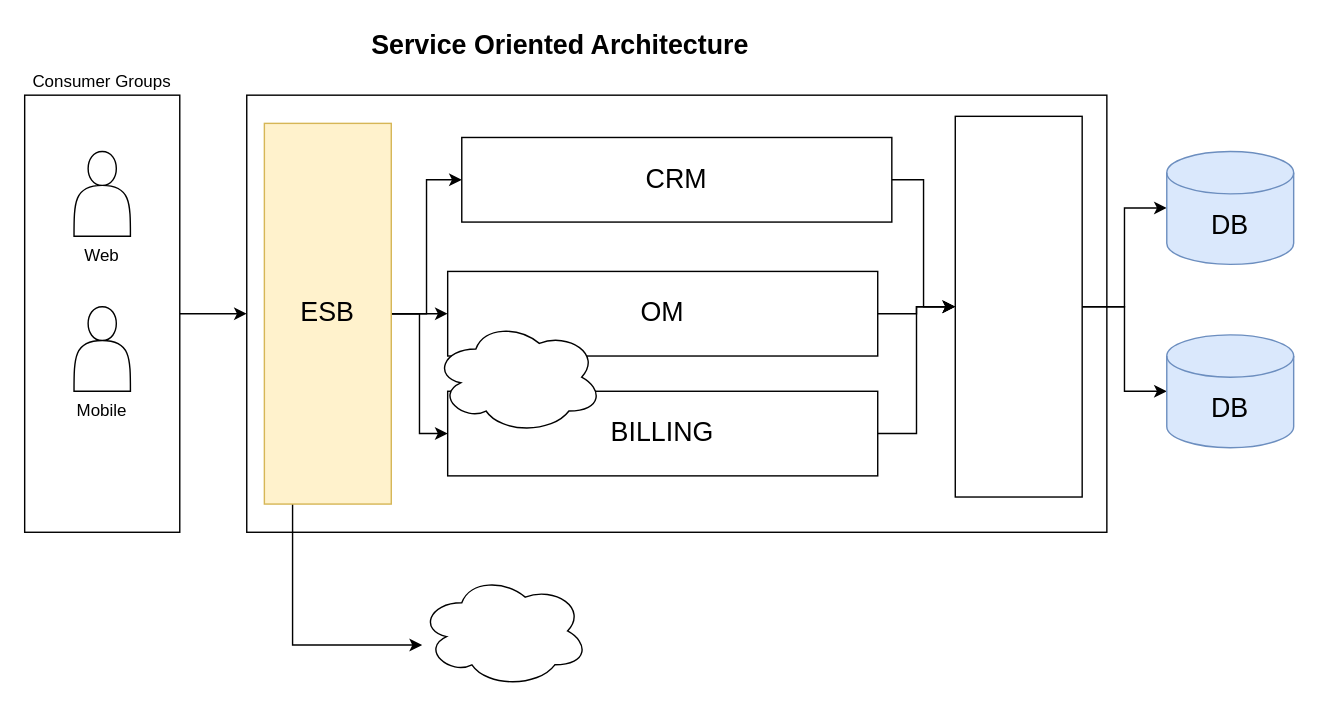
Some shapes in this 1318 by 712 pixel diagram are drawn without their labels. The centre of each missing label's shape, as x and y in pixels:
"External" goes at point (503, 630).
"Shared" goes at point (1018, 306).
